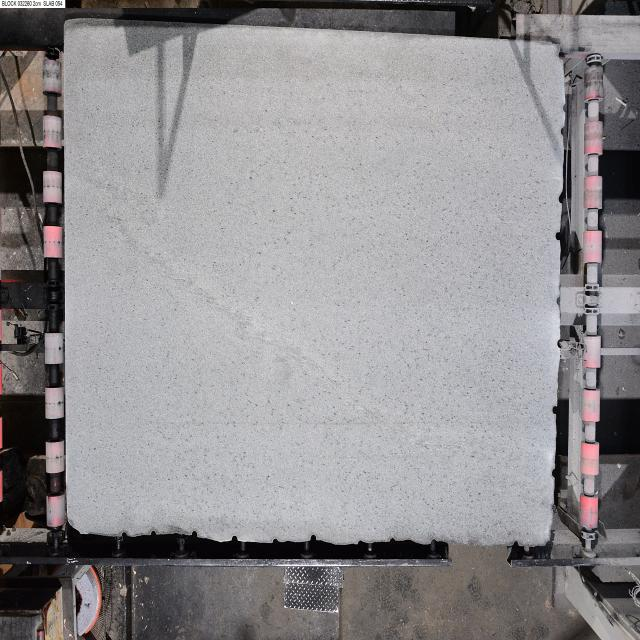chapa: (64, 21, 564, 546)
veio: (188, 530, 198, 540), (230, 534, 240, 544), (308, 534, 318, 544), (558, 190, 564, 204)
